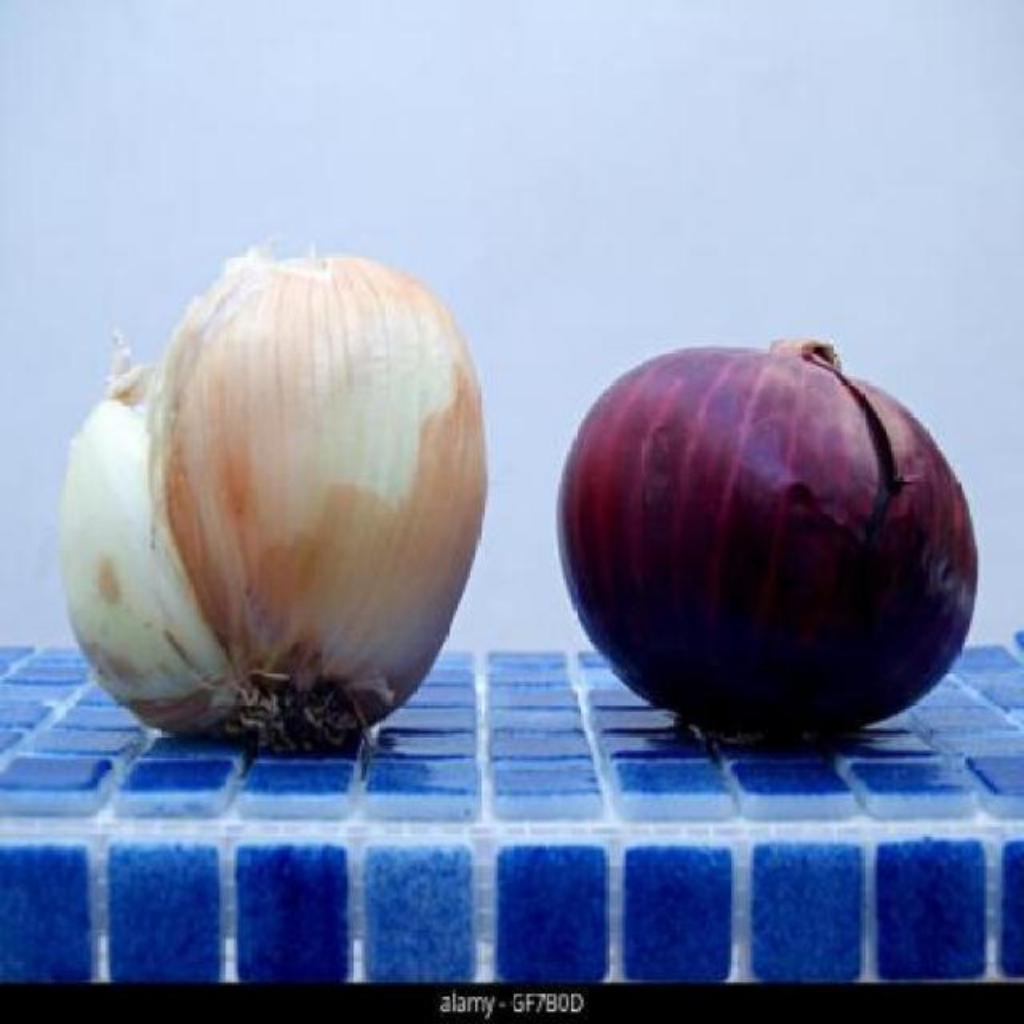Onion: (56, 245, 491, 763), (554, 341, 981, 749)
